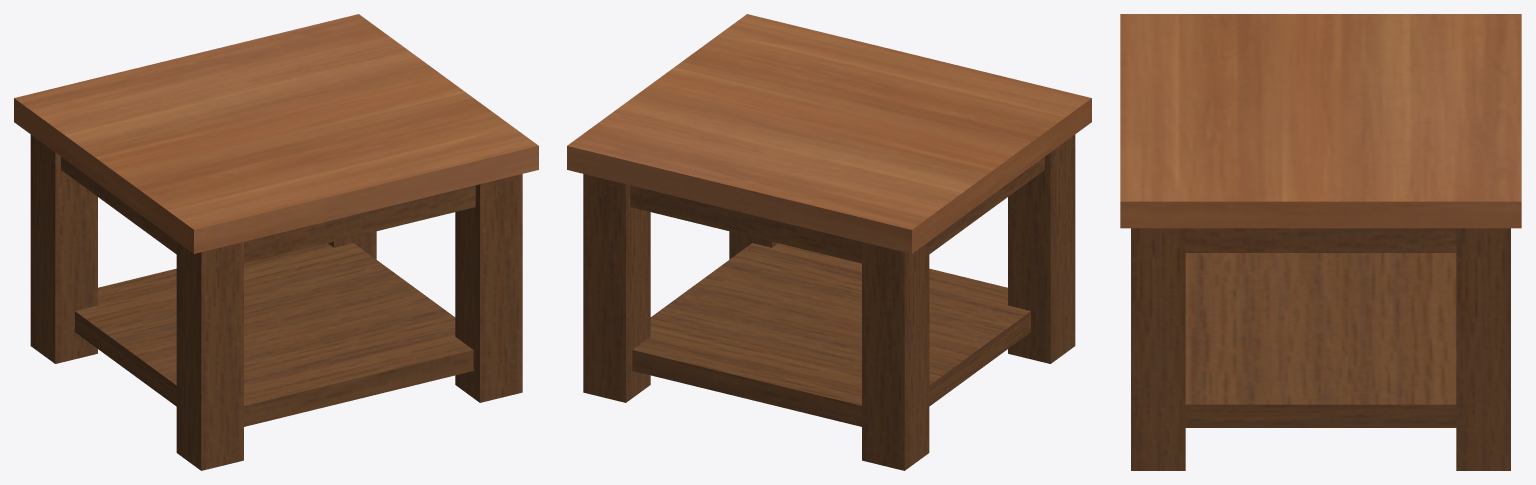
The model's file is Table_5B.fbx.
The picture shows the model from 3 angles, left to right: view 1: azimuth 30°, elevation 25°; view 2: azimuth 150°, elevation 25°; view 3: azimuth 270°, elevation 25°; orthographic projection. The views are drawn at different scales.
Parts seen in each view (by area): view 1: polySurface1517; view 2: polySurface1517; view 3: polySurface1517.
Part boxes in pixels (left/top/right/bottom): polySurface1517: left=14, top=14, right=538, bottom=470; polySurface1517: left=567, top=14, right=1091, bottom=470; polySurface1517: left=1120, top=14, right=1521, bottom=470.
Bounding box in the file's own units: 1.05 × 0.72 × 0.95.
